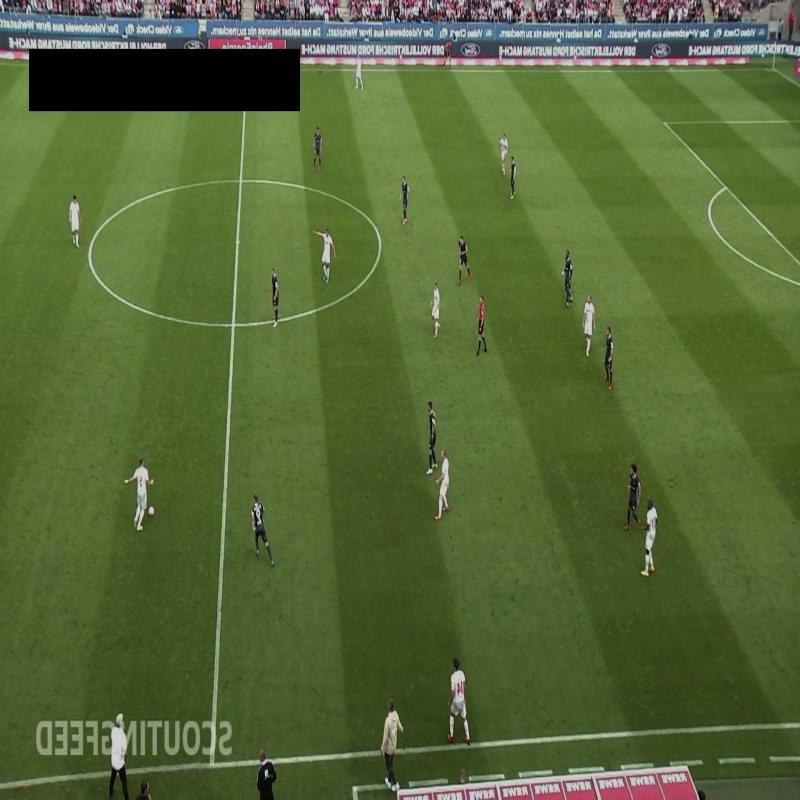1: (765, 59, 781, 77)
10: (719, 182, 733, 196)
14: (234, 173, 247, 187)
15: (225, 316, 242, 334)
16: (201, 754, 224, 776)
9: (658, 116, 672, 131)
c: (371, 233, 391, 253), (84, 248, 98, 262)
